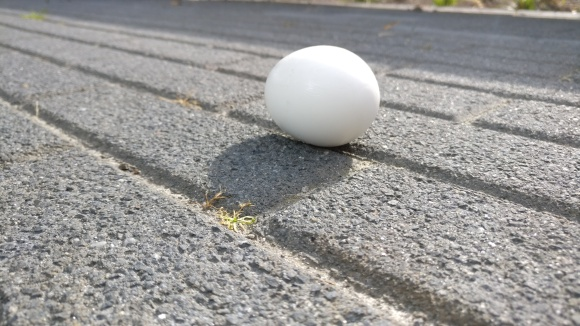egg: (265, 45, 380, 145)
